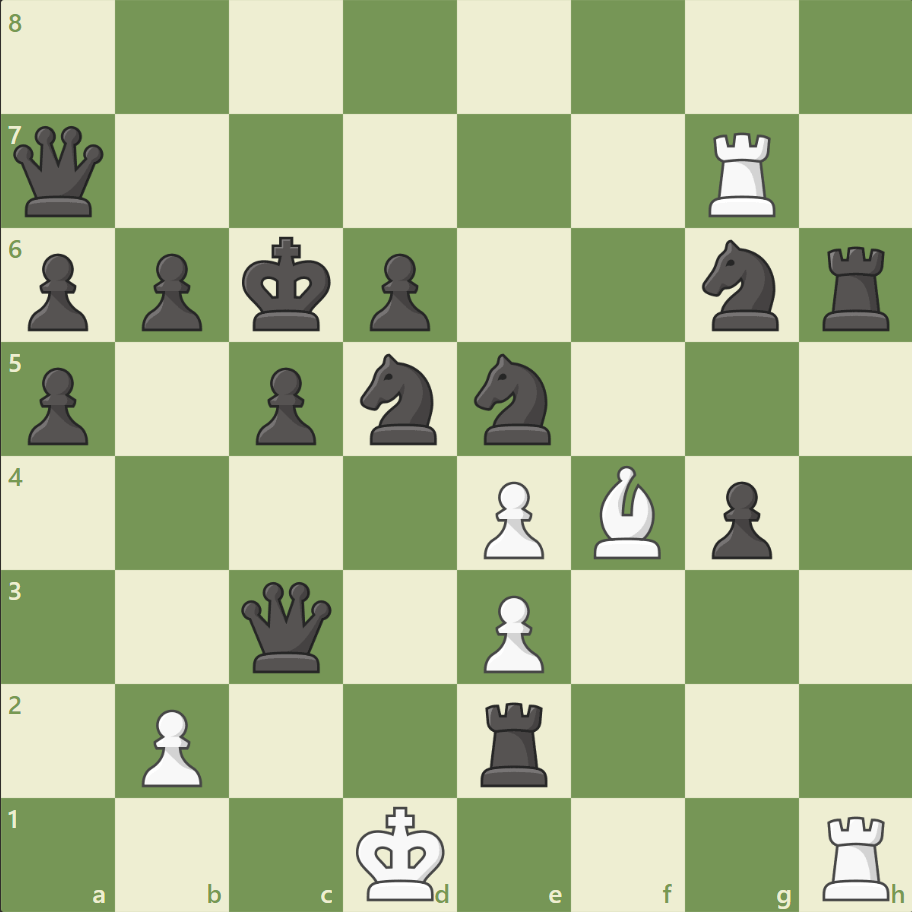B: (585, 460, 669, 563)
K: (351, 798, 451, 906)
P: (474, 473, 549, 564), (474, 586, 549, 677), (133, 700, 208, 791)
R: (814, 806, 897, 904), (700, 125, 783, 222)
k: (238, 231, 338, 339)
n: (351, 348, 449, 450), (692, 234, 789, 337), (465, 348, 562, 450)
p: (20, 246, 95, 337), (133, 246, 208, 337), (20, 359, 95, 450), (247, 359, 322, 450), (701, 473, 776, 564), (361, 246, 435, 337)
q: (10, 122, 109, 222), (237, 576, 336, 676)
r: (814, 239, 897, 336), (473, 693, 556, 790)
